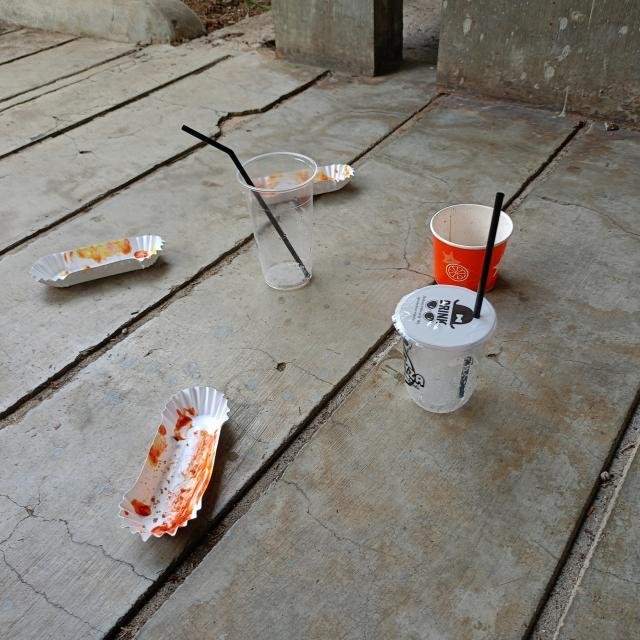recyclable waste: (111, 377, 238, 549), (385, 278, 503, 421), (232, 143, 323, 299), (23, 226, 173, 294), (424, 197, 520, 300), (235, 160, 360, 212)
